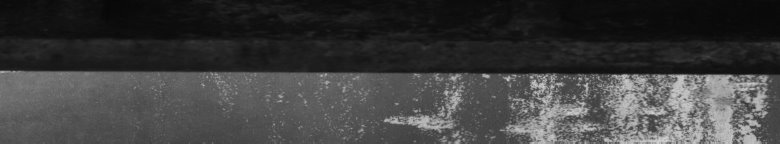kb: (182, 0, 612, 144)
